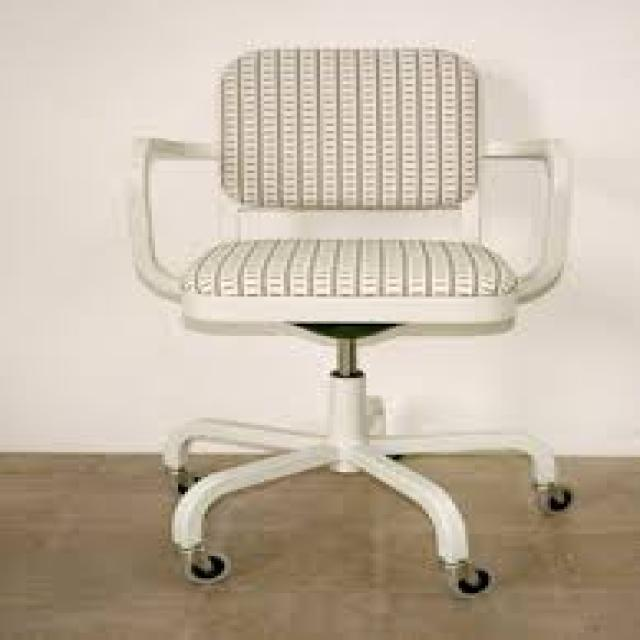chair: (26, 7, 637, 640)
